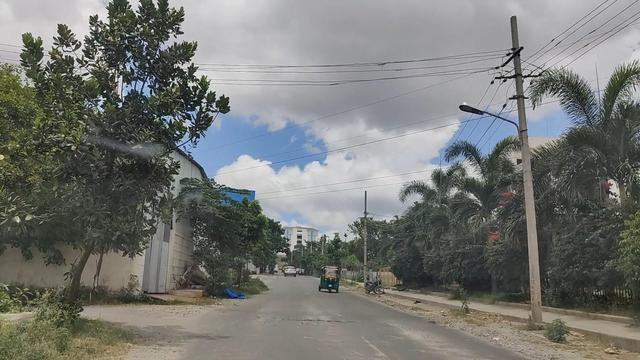RoadDamages: (289, 305, 364, 333)
